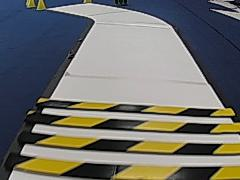bump: (13, 93, 234, 179)
